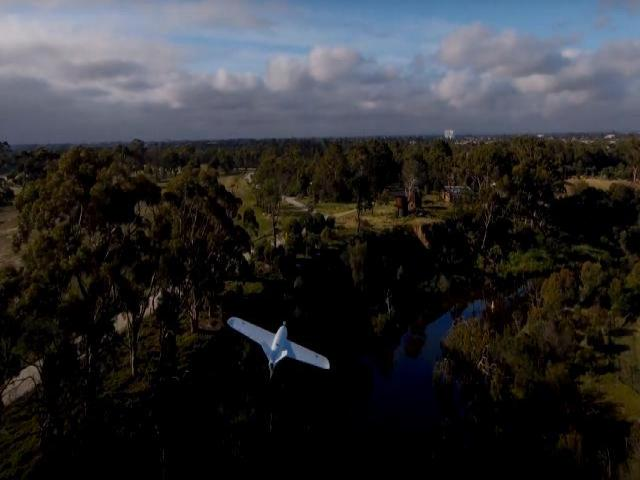iha: (221, 312, 335, 374)
